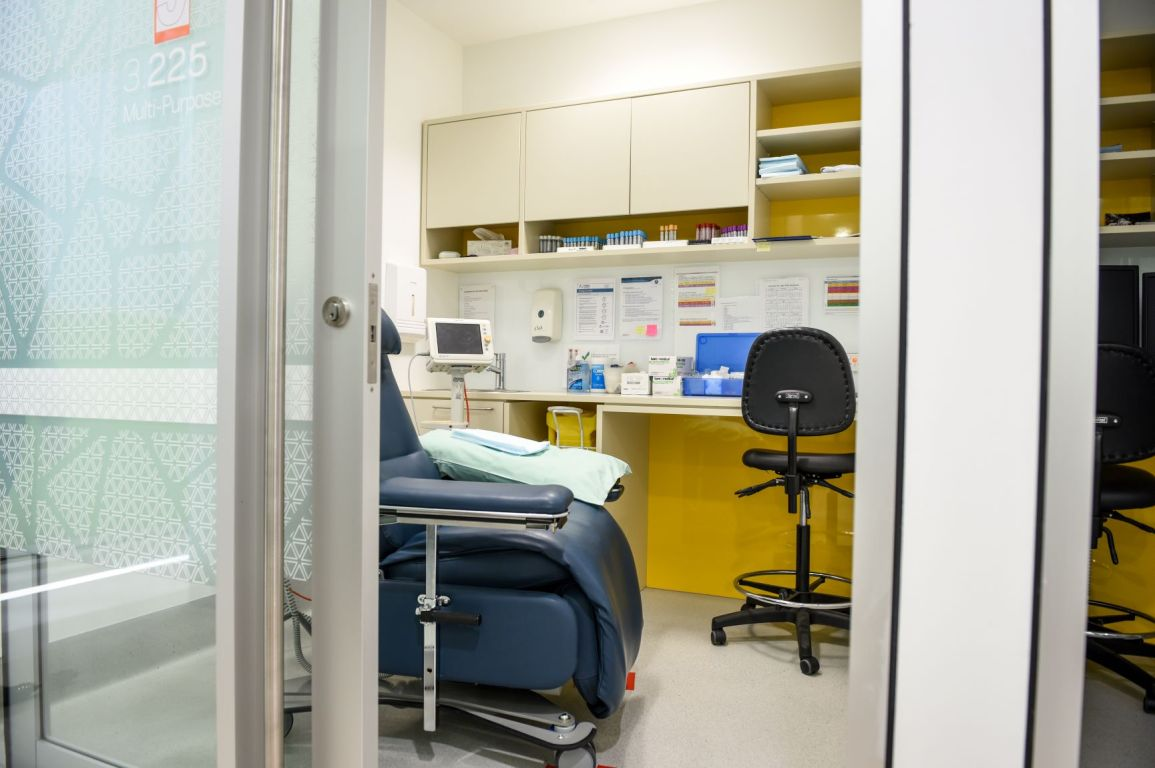bedside_monitor: (424, 315, 496, 375)
cabinet: (415, 64, 864, 267)
chair: (710, 327, 856, 675), (1087, 345, 1155, 713)
computer: (1099, 265, 1139, 347)
counter: (410, 388, 852, 592)
dispenser: (529, 289, 564, 343)
exam_table: (380, 308, 642, 768)
faucet: (486, 352, 506, 390)
handle: (432, 403, 497, 417)
